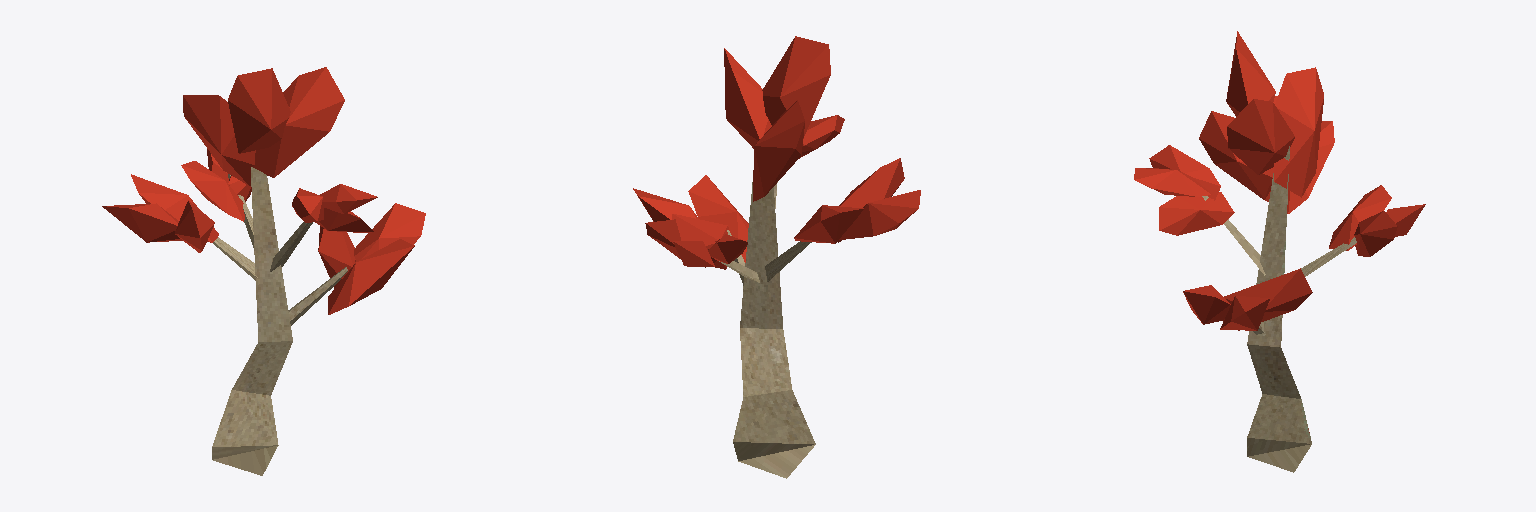
3 views of the same model, side by side, from view 1: azimuth 30°, elevation 25°; view 2: azimuth 150°, elevation 25°; view 3: azimuth 270°, elevation 25° (orthographic).
Parts seen in each view (by area): view 1: treeCaramell-mesh_treeCaramell-.001; view 2: treeCaramell-mesh_treeCaramell-.001; view 3: treeCaramell-mesh_treeCaramell-.001.
Part boxes in pixels (left/top/right/bottom): treeCaramell-mesh_treeCaramell-.001: left=102, top=67, right=425, bottom=475; treeCaramell-mesh_treeCaramell-.001: left=633, top=36, right=920, bottom=478; treeCaramell-mesh_treeCaramell-.001: left=1134, top=31, right=1425, bottom=472.
Bounding box in the file's own units: 3.7 × 4.76 × 3.06.
Materials: 1 (1 with a texture image).